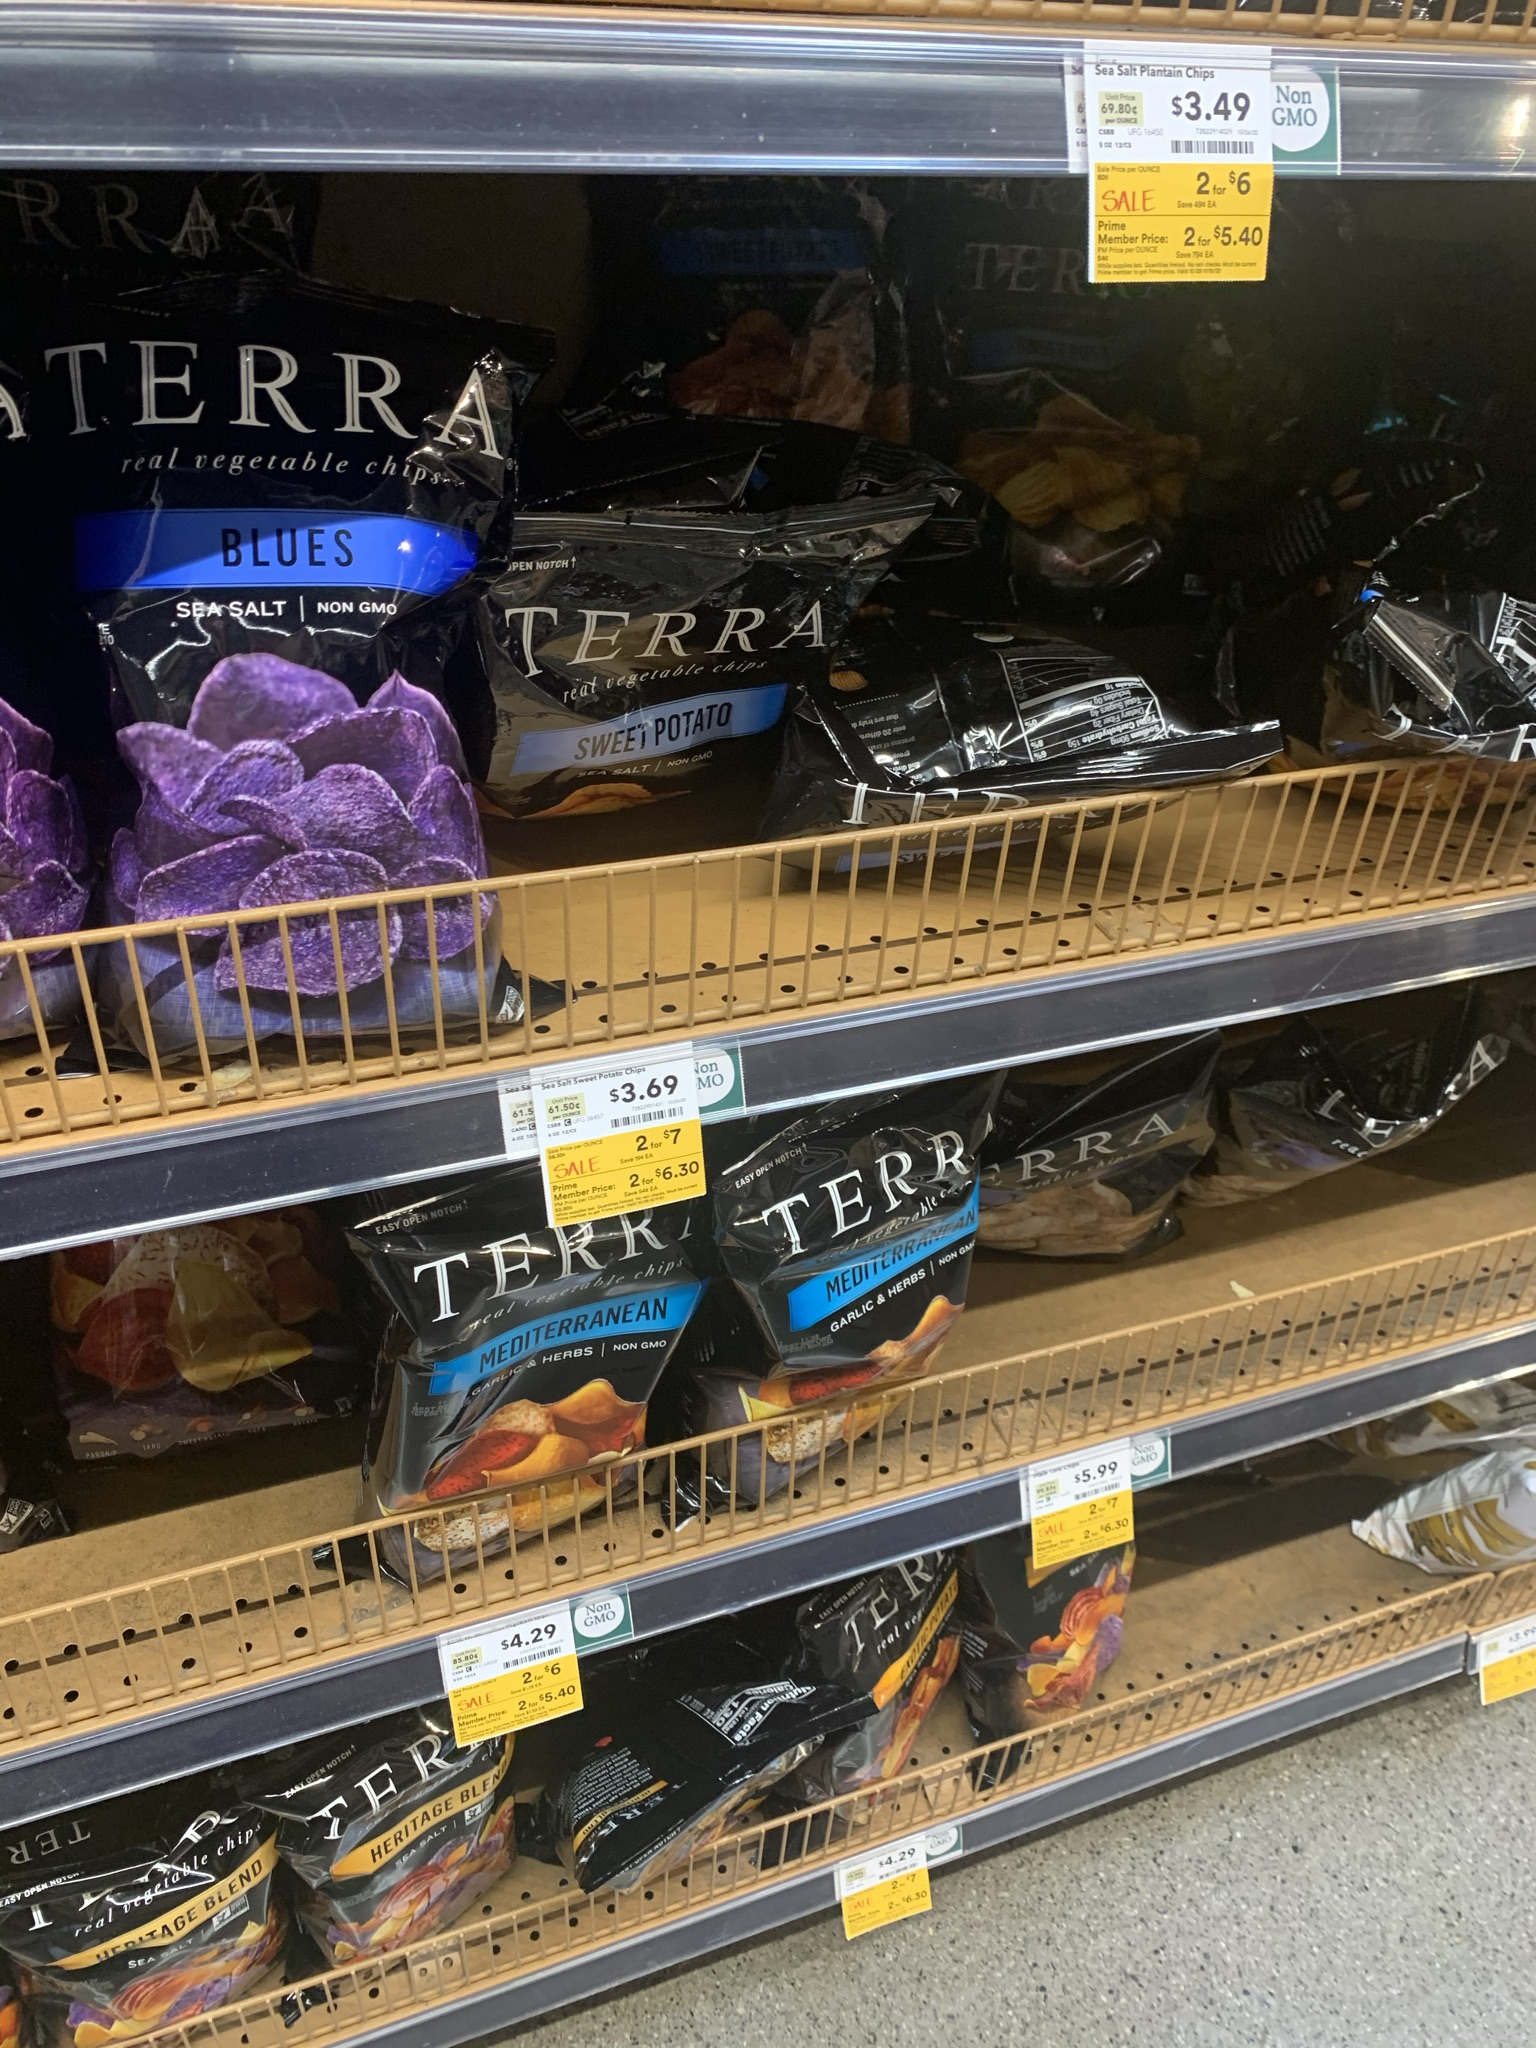terra chips: (34, 340, 482, 1011), (962, 224, 1202, 605), (369, 1230, 679, 1484), (523, 519, 771, 819), (729, 1176, 992, 1414), (303, 1774, 542, 1900), (816, 1616, 966, 1801), (1016, 1116, 1213, 1243), (44, 1906, 282, 2000), (962, 1551, 1125, 1655)
